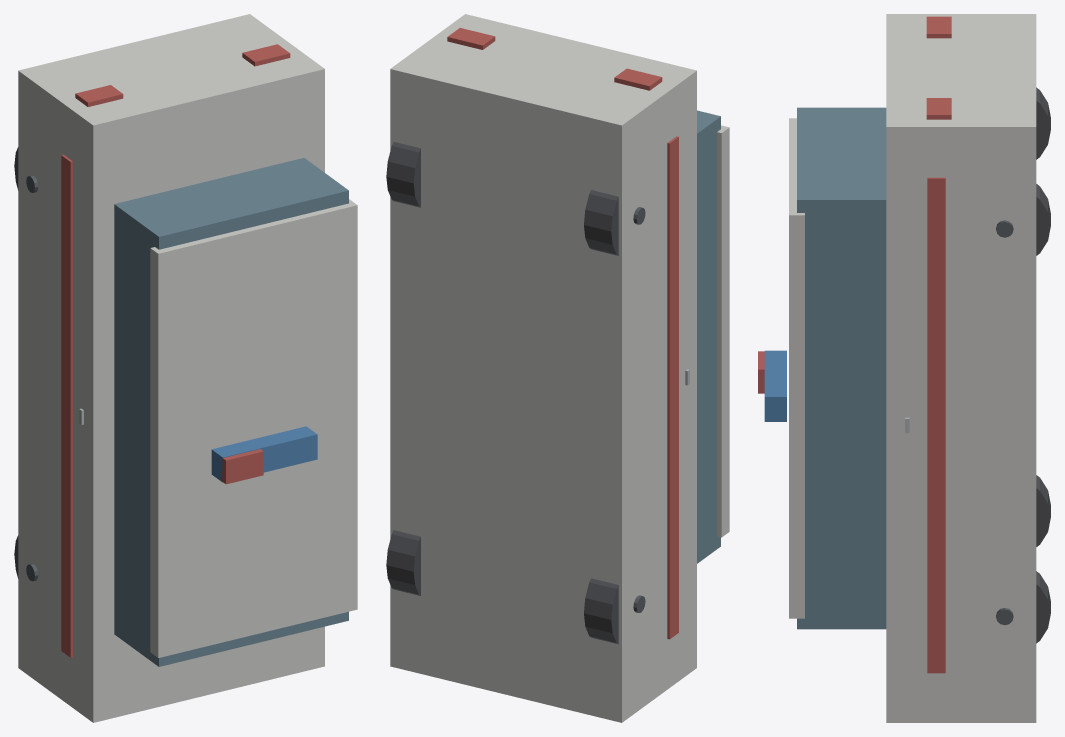
File: ambulance_van.glb
The picture shows the model from 3 angles, left to right: view 1: azimuth 30°, elevation 25°; view 2: azimuth 150°, elevation 25°; view 3: azimuth 270°, elevation 25°; orthographic projection.
Visible parts, largest first — view 1: 0000_Car_body, 0003_Roof, 0002_Cabin_glass, 0026_Ambulance_red_stripe, 0024_Emergency_lightbar, 0025_Emergency_light_red, 0009_Tail_lamp, 0007_Tail_lamp; view 2: 0000_Car_body, 0002_Cabin_glass, 0026_Ambulance_red_stripe, 0003_Roof, 0012_Wheel_tire, 0018_Wheel_tire, 0021_Wheel_tire, 0015_Wheel_tire, 0007_Tail_lamp, 0009_Tail_lamp; view 3: 0000_Car_body, 0002_Cabin_glass, 0027_Ambulance_red_stripe, 0003_Roof, 0024_Emergency_lightbar, 0015_Wheel_tire, 0018_Wheel_tire, 0012_Wheel_tire, 0021_Wheel_tire, 0007_Tail_lamp, 0009_Tail_lamp.
Part boxes in pixels (bbox=[...]): 0000_Car_body: bbox=[18, 14, 324, 722]; 0003_Roof: bbox=[150, 199, 357, 657]; 0002_Cabin_glass: bbox=[114, 158, 348, 666]; 0026_Ambulance_red_stripe: bbox=[61, 154, 72, 657]; 0024_Emergency_lightbar: bbox=[211, 426, 317, 482]; 0025_Emergency_light_red: bbox=[221, 449, 263, 484]; 0009_Tail_lamp: bbox=[242, 44, 290, 66]; 0007_Tail_lamp: bbox=[75, 85, 123, 106]; 0000_Car_body: bbox=[390, 14, 696, 722]; 0002_Cabin_glass: bbox=[697, 110, 720, 563]; 0026_Ambulance_red_stripe: bbox=[667, 136, 678, 639]; 0003_Roof: bbox=[717, 125, 729, 537]; 0012_Wheel_tire: bbox=[584, 578, 618, 644]; 0018_Wheel_tire: bbox=[584, 190, 618, 255]; 0021_Wheel_tire: bbox=[386, 142, 420, 207]; 0015_Wheel_tire: bbox=[386, 530, 420, 595]; 0007_Tail_lamp: bbox=[614, 68, 662, 90]; 0009_Tail_lamp: bbox=[447, 28, 495, 49]; 0000_Car_body: bbox=[886, 14, 1036, 722]; 0002_Cabin_glass: bbox=[797, 107, 886, 629]; 0027_Ambulance_red_stripe: bbox=[927, 177, 945, 673]; 0003_Roof: bbox=[789, 118, 804, 618]; 0024_Emergency_lightbar: bbox=[764, 350, 786, 421]; 0015_Wheel_tire: bbox=[1036, 571, 1050, 643]; 0018_Wheel_tire: bbox=[1036, 87, 1050, 159]; 0012_Wheel_tire: bbox=[1036, 475, 1050, 546]; 0021_Wheel_tire: bbox=[1036, 184, 1050, 255]; 0007_Tail_lamp: bbox=[926, 16, 951, 38]; 0009_Tail_lamp: bbox=[926, 98, 951, 119].
Size of the model in its own units: 2.09 by 5.1 by 2.22.
